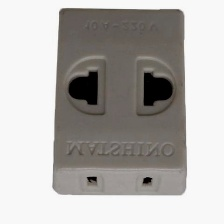three_eye_plug: (48, 6, 188, 199)
